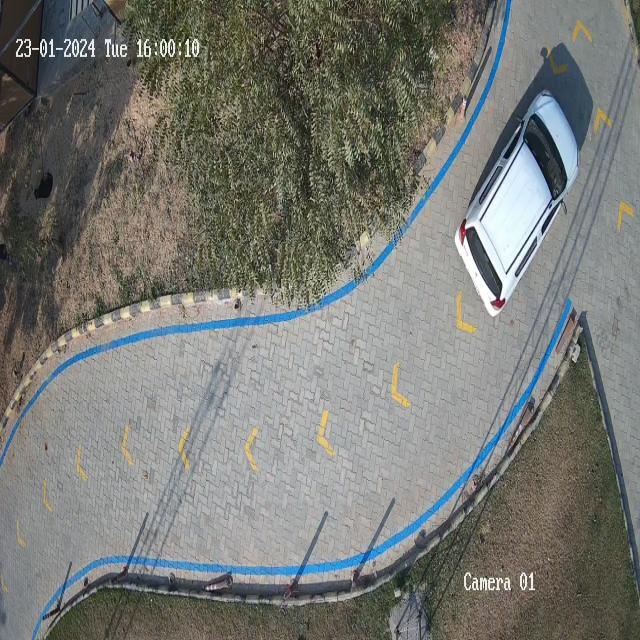car: (455, 91, 580, 316)
